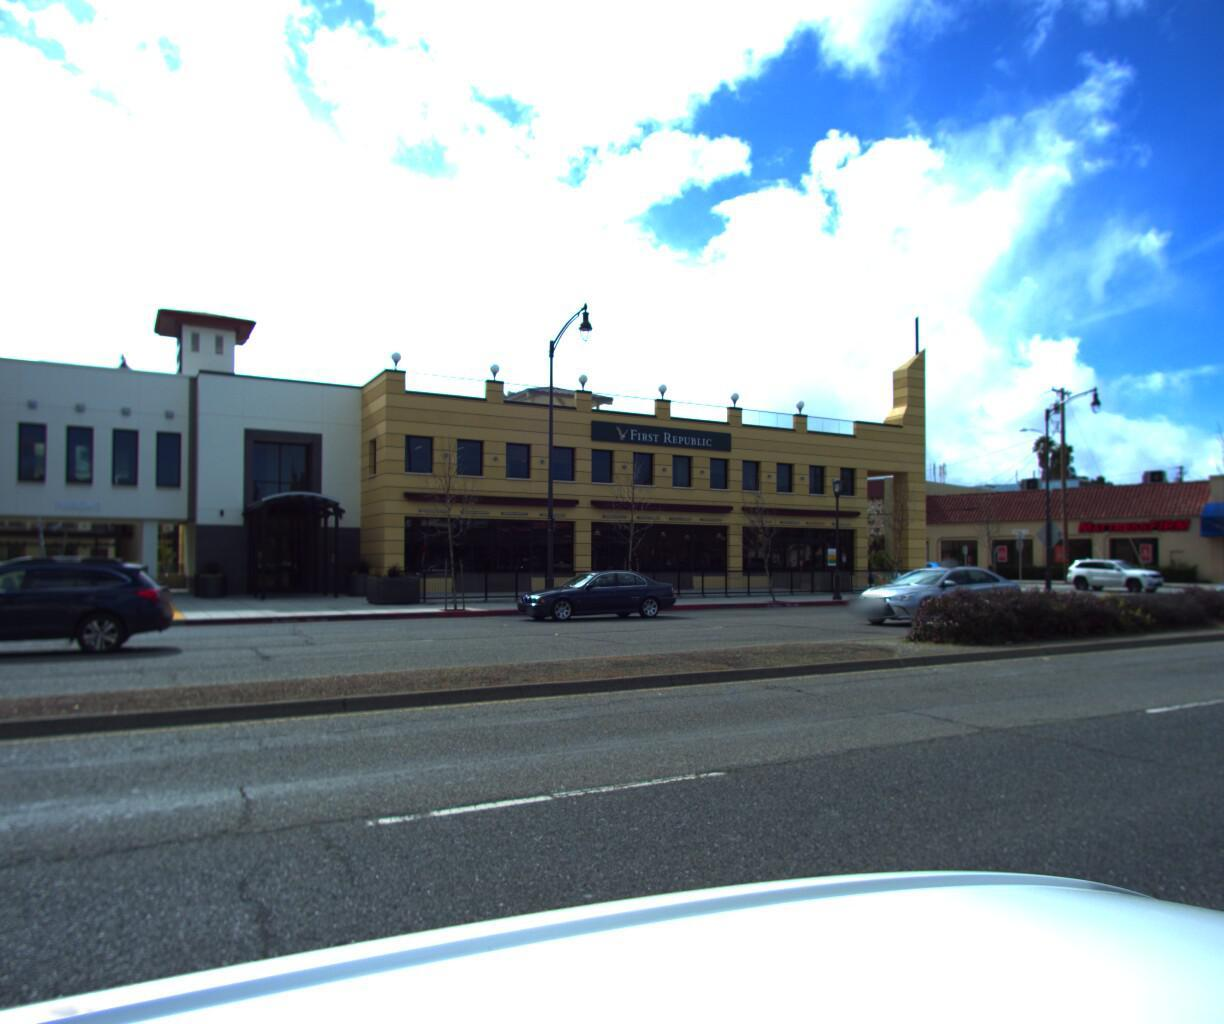car: (0, 559, 167, 672), (843, 566, 1029, 630), (508, 573, 682, 629), (1058, 560, 1167, 596), (886, 564, 960, 587), (0, 570, 14, 641)
